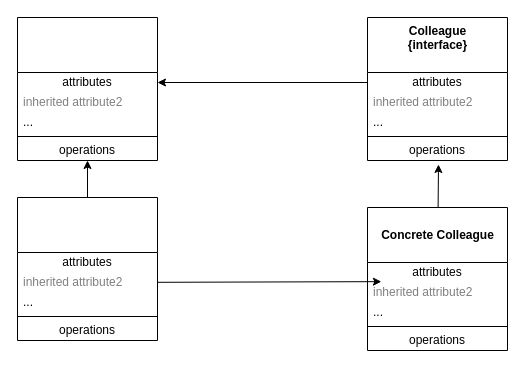
This 525x368 diagram has some shape labels left out. Each missing label, with the box of its shape:
Concrete Mediator: (16, 196, 158, 340)
Mediator {abstract}: (16, 16, 158, 160)
